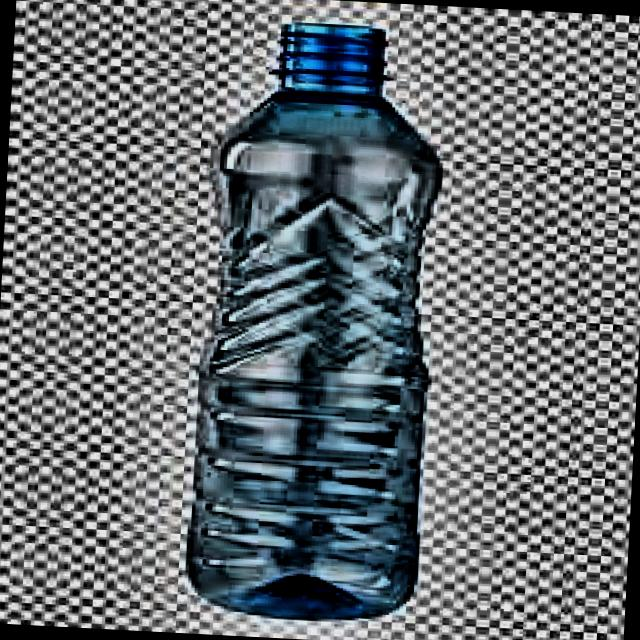plastic bottle: (188, 23, 439, 619)
